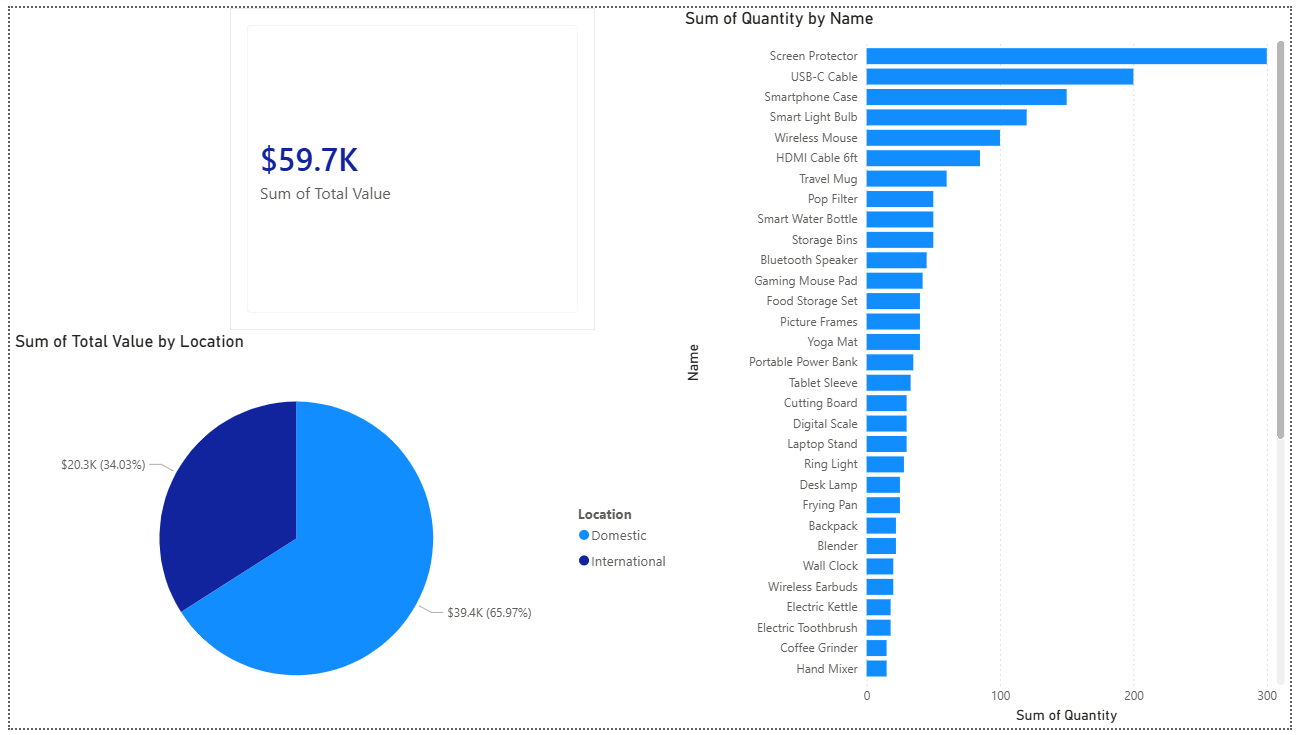

What the dashboard file says about the page in this screenshot:
{"tool":"powerbi","page":{"name":"Inventory Overview","canvas":[1280,720],"ordinal":0},"visuals":[{"type":"cardVisual","fields":{"Data":["Sum(Table.Total Value)"]},"box":[220,0,365,322.5],"z":0},{"type":"clusteredBarChart","fields":{"Category":["Table.Name"],"Y":["Sum(Table.Quantity)"]},"box":[670,0,610,720],"z":1000},{"type":"pieChart","fields":{"Category":["Table.Location"],"Y":["Sum(Table.Total Value)"]},"box":[0,323,670,397],"z":2000}]}

Visuals, with their boxes in screenshot pixels (x1, y1, x2, y2), scaled from the page's 1280x720 canvas onto the 1297x735 screenshot:
cardVisual - Sum(Table.Total Value): Rect(223, 0, 593, 329)
clusteredBarChart - Table.Name x Sum(Table.Quantity): Rect(679, 0, 1296, 734)
pieChart - Table.Location x Sum(Table.Total Value): Rect(0, 330, 679, 734)
